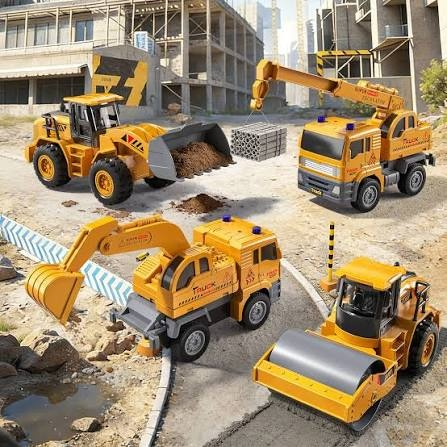excavator: (30, 220, 279, 356)
machinery: (248, 238, 443, 431), (239, 37, 434, 220), (19, 90, 238, 196)
